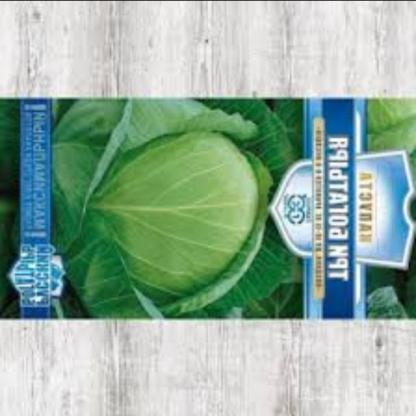cabbage: (42, 105, 295, 308)
